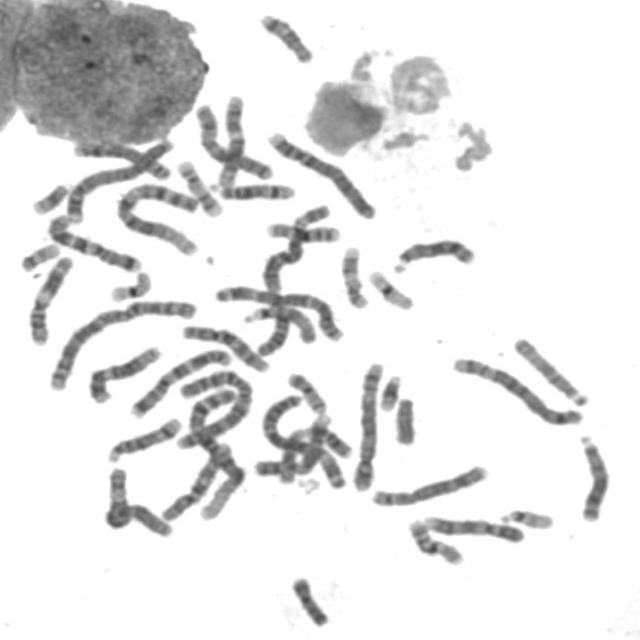A1: (180, 368, 249, 523), (111, 177, 202, 258)
A2: (43, 294, 201, 392), (170, 362, 254, 451)
A3: (256, 388, 351, 491), (208, 280, 347, 345)
B4: (262, 126, 379, 220), (60, 133, 176, 225)
B5: (447, 351, 586, 428), (347, 357, 386, 494)
C10: (154, 438, 240, 524), (176, 319, 272, 374)
C11: (274, 419, 352, 490), (22, 251, 75, 347)
C12: (83, 340, 165, 405), (212, 90, 248, 189)
C6: (258, 200, 336, 302), (98, 462, 176, 539)
C7: (124, 343, 234, 420), (40, 208, 144, 273)
C8: (366, 459, 492, 509), (67, 136, 173, 182)
C9: (249, 413, 338, 477), (418, 511, 528, 545)
D13: (387, 232, 478, 276), (572, 430, 612, 524)
D14: (102, 412, 184, 465), (205, 177, 298, 202)
D15: (508, 331, 594, 408), (239, 300, 321, 345)
E16: (403, 514, 468, 568), (260, 216, 344, 244)
E17: (172, 155, 224, 218), (336, 241, 372, 310)
E18: (254, 7, 316, 66), (250, 308, 296, 358)
F19: (363, 265, 416, 312), (104, 267, 154, 304)
F20: (285, 570, 334, 629), (282, 367, 329, 417)
G21: (26, 177, 72, 217), (375, 370, 404, 412)
G22: (495, 502, 557, 530), (14, 238, 62, 273)
X: (190, 97, 274, 182)
Y: (389, 393, 419, 447)
